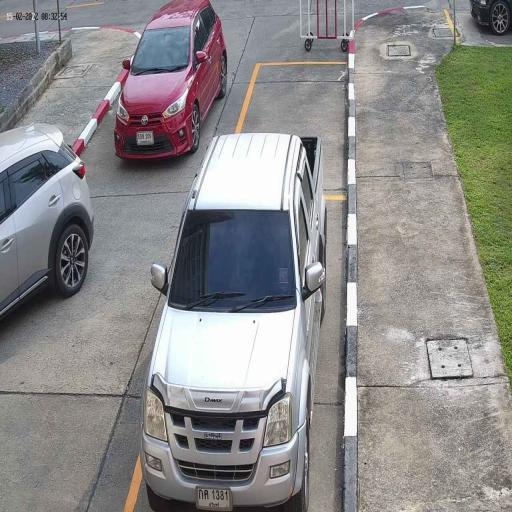car: (140, 131, 328, 512), (0, 121, 94, 320), (114, 0, 227, 161)
